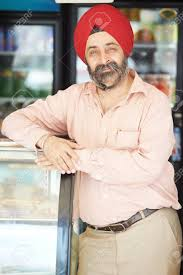helmet: (69, 2, 137, 94)
